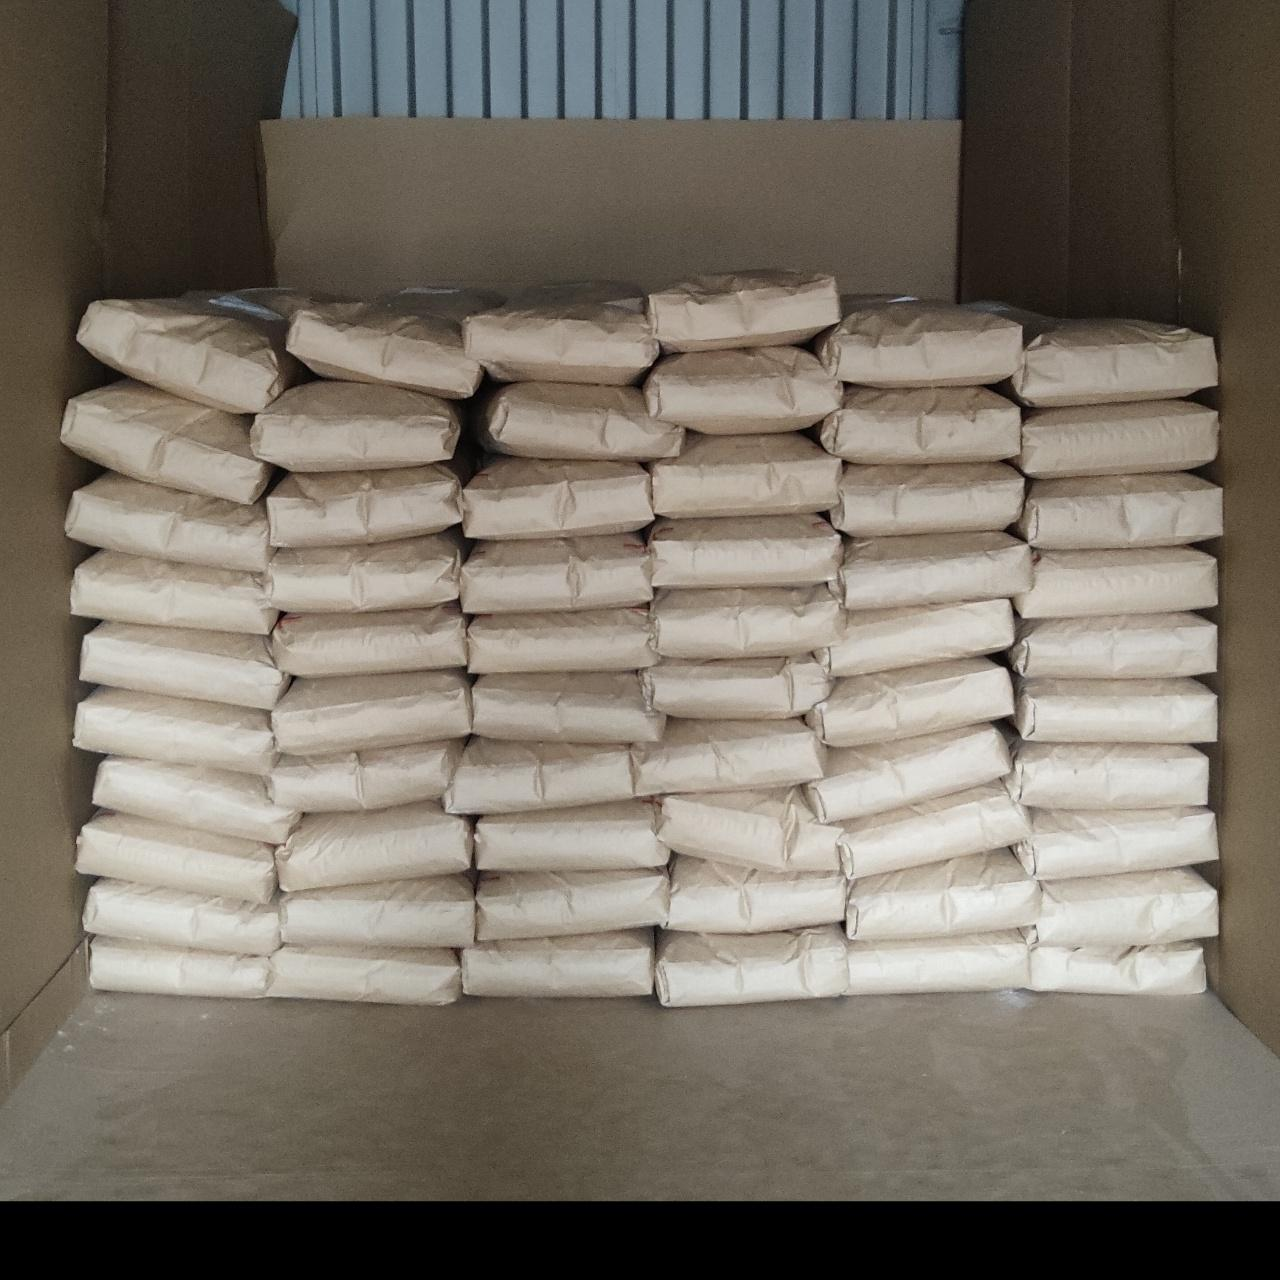sack: (77, 291, 297, 413), (62, 380, 270, 502), (286, 290, 503, 397), (68, 474, 270, 572), (808, 726, 1008, 822), (1009, 319, 1217, 407), (252, 382, 458, 470), (464, 288, 658, 382), (813, 302, 1023, 387), (79, 812, 274, 903), (842, 782, 1028, 876), (82, 624, 286, 708), (76, 688, 275, 774), (94, 758, 297, 842), (810, 660, 1012, 742), (72, 550, 275, 629), (644, 348, 840, 430), (847, 852, 1039, 937), (268, 464, 462, 546), (278, 804, 470, 886), (274, 672, 470, 750), (266, 532, 464, 610), (478, 384, 682, 459), (652, 434, 838, 516), (462, 458, 652, 538), (1020, 474, 1220, 549), (656, 926, 846, 1005), (648, 272, 838, 350), (818, 388, 1017, 462), (1017, 402, 1216, 476), (462, 536, 651, 612), (818, 600, 1012, 674), (660, 790, 838, 870), (445, 738, 634, 812), (836, 535, 1030, 606), (84, 880, 278, 952), (280, 874, 474, 946), (666, 856, 846, 932), (636, 720, 822, 794), (1030, 870, 1214, 944), (272, 604, 464, 674), (1016, 810, 1214, 878), (1016, 549, 1214, 617), (651, 516, 838, 586), (835, 464, 1022, 535), (652, 586, 842, 654), (474, 674, 662, 742), (1008, 614, 1214, 676), (1008, 742, 1206, 806), (272, 742, 459, 810), (476, 802, 663, 870), (478, 872, 668, 938), (1014, 680, 1214, 742), (464, 932, 654, 996), (644, 656, 830, 719), (470, 608, 654, 670), (847, 932, 1028, 994), (270, 946, 459, 1005), (90, 938, 270, 996), (1028, 942, 1201, 994)
